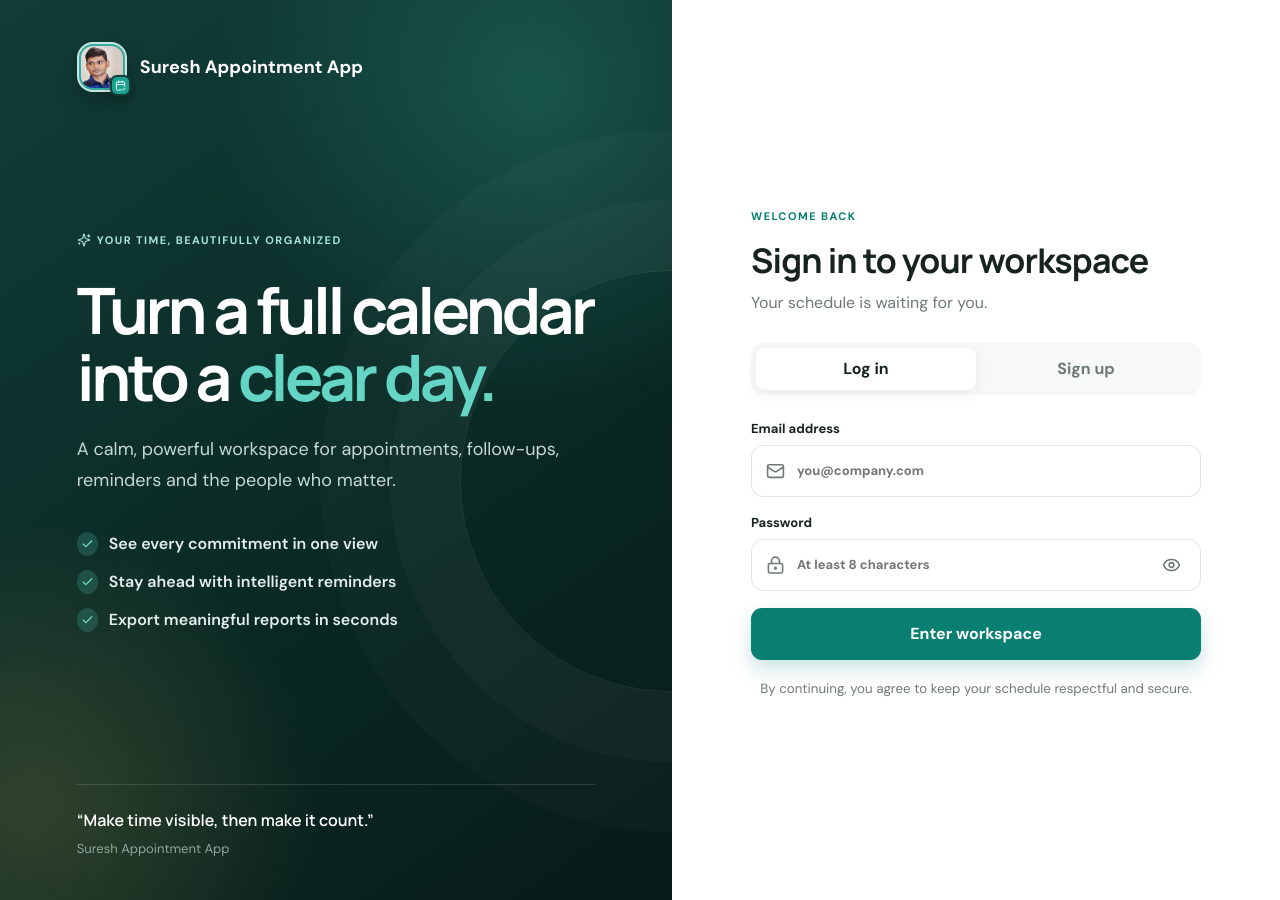
Test: Suresh Appointment App › renders login and signup as the entry experience
Expected: the 1st text "Suresh Appointment App" is shown, 140,55 -> 363,79
Expected: the heading "Sign in to your workspace" is shown, 751,236 -> 1201,282
Click the button "Sign up" at [1086, 368], box 976,348 -> 1196,390
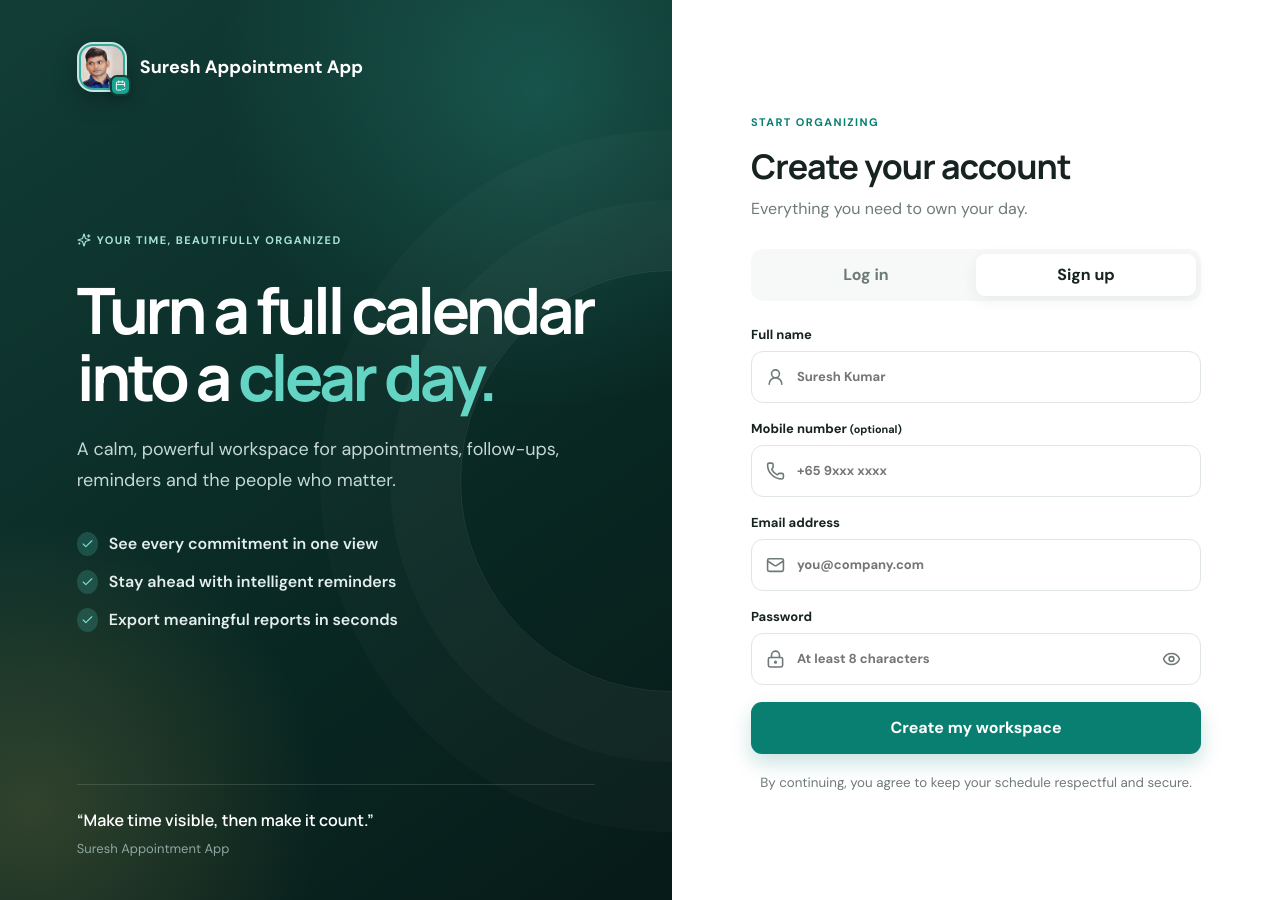
Now the heading "Create your account" is shown, box 751,142 -> 1071,188
Now the text "Full name" is shown, box 751,326 -> 812,342
